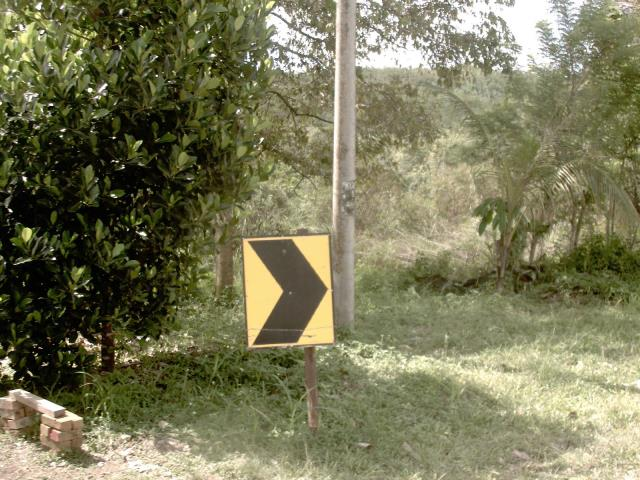traffic_sign: (228, 217, 347, 364)
